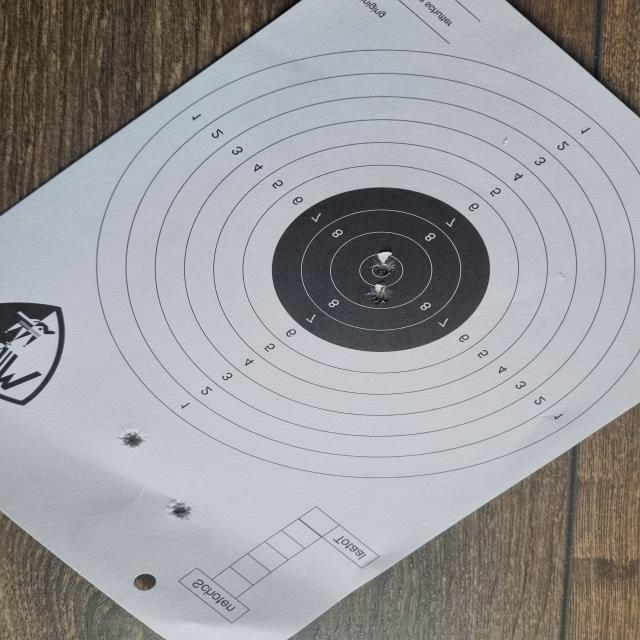0: (116, 427, 146, 448), (166, 499, 194, 520)
10: (364, 283, 394, 306), (370, 258, 399, 276)
Target: (98, 48, 640, 480)
black_contour: (270, 187, 491, 352)
